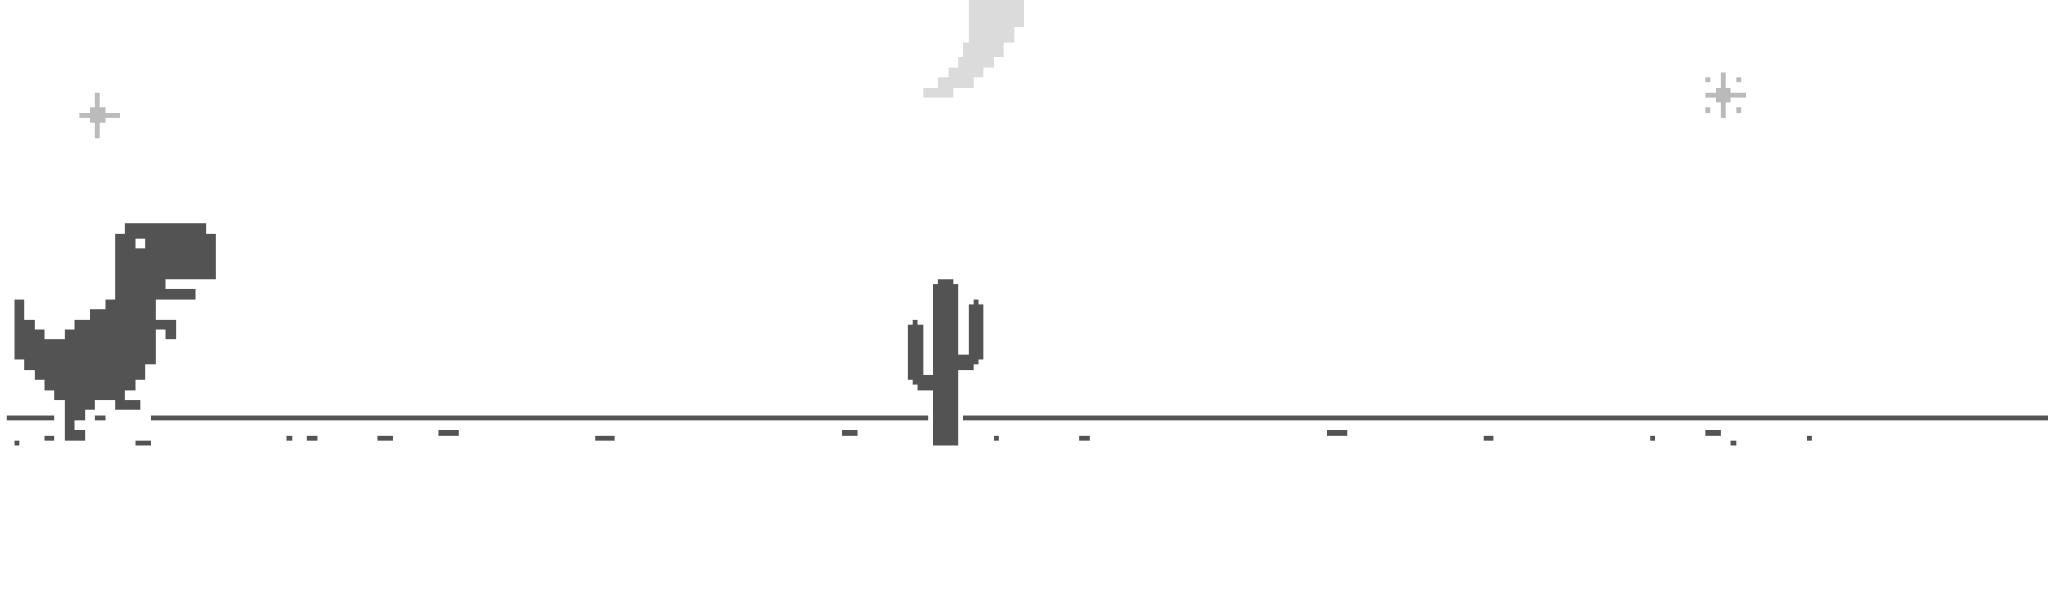6: (9, 217, 221, 448)
t-rex: (903, 271, 987, 449)
